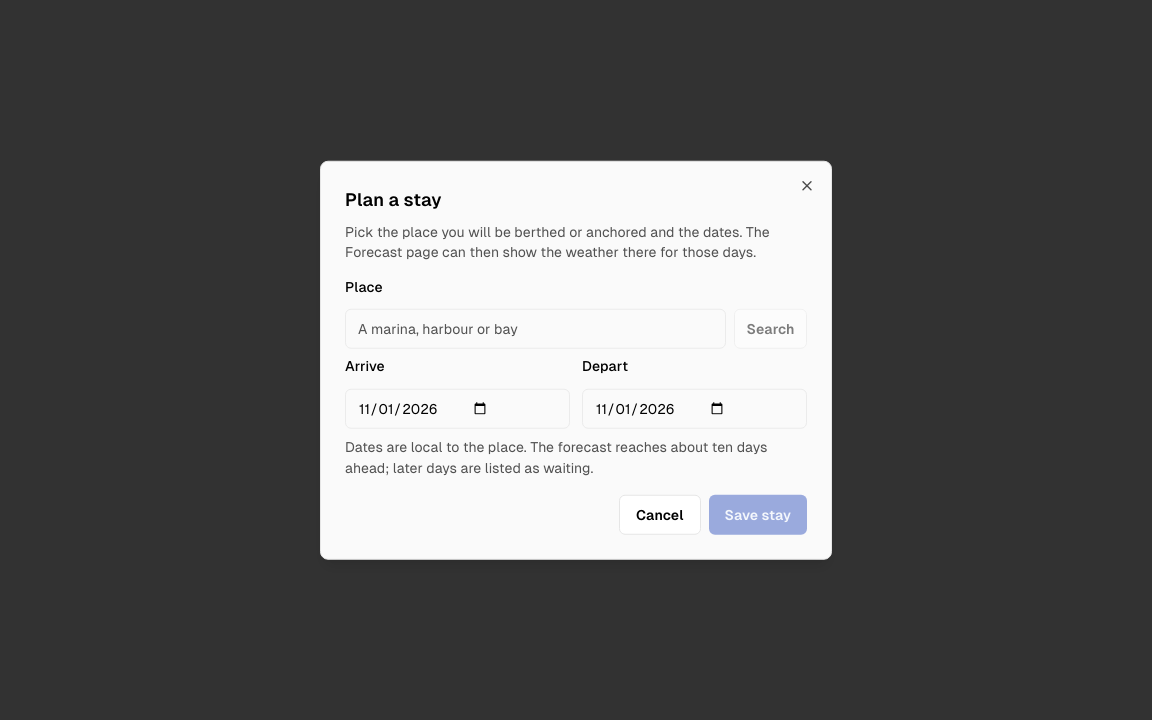
Test: ForecastStaySheet › shows a candidate with no distance or bearing without inventing one
In the field labelled "Place": (536, 329) [345,309,726,349], type "Bona"
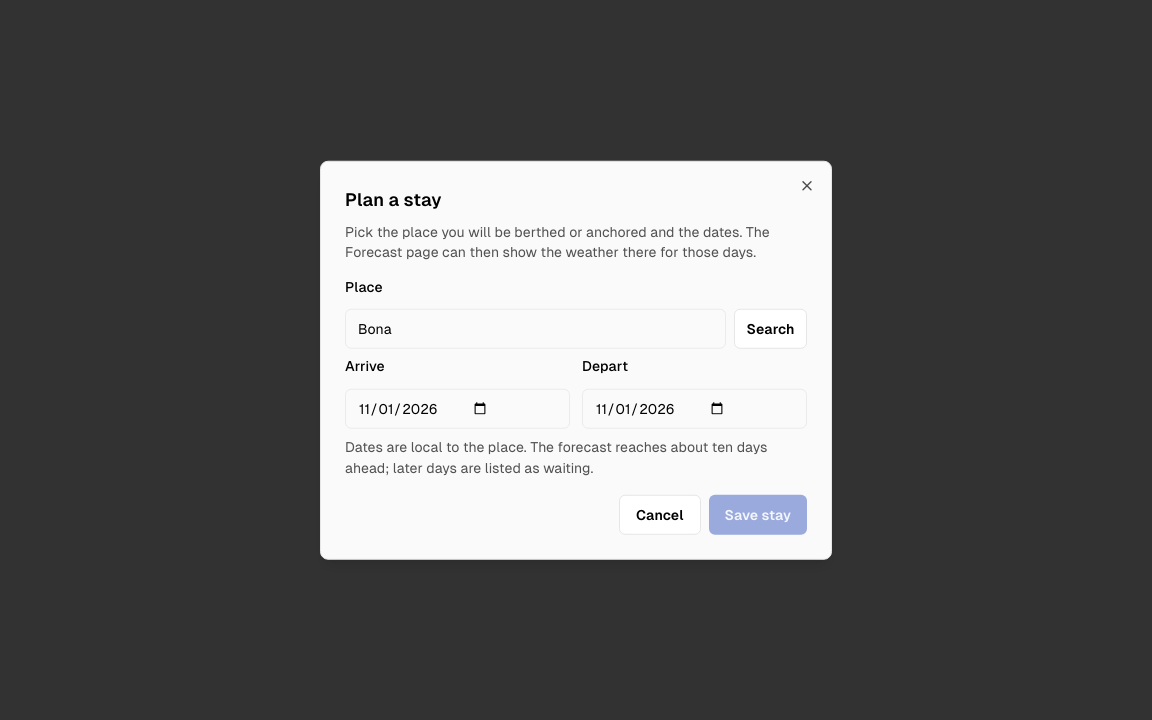
Click the button "Search": (770, 329) [734,309,807,349]
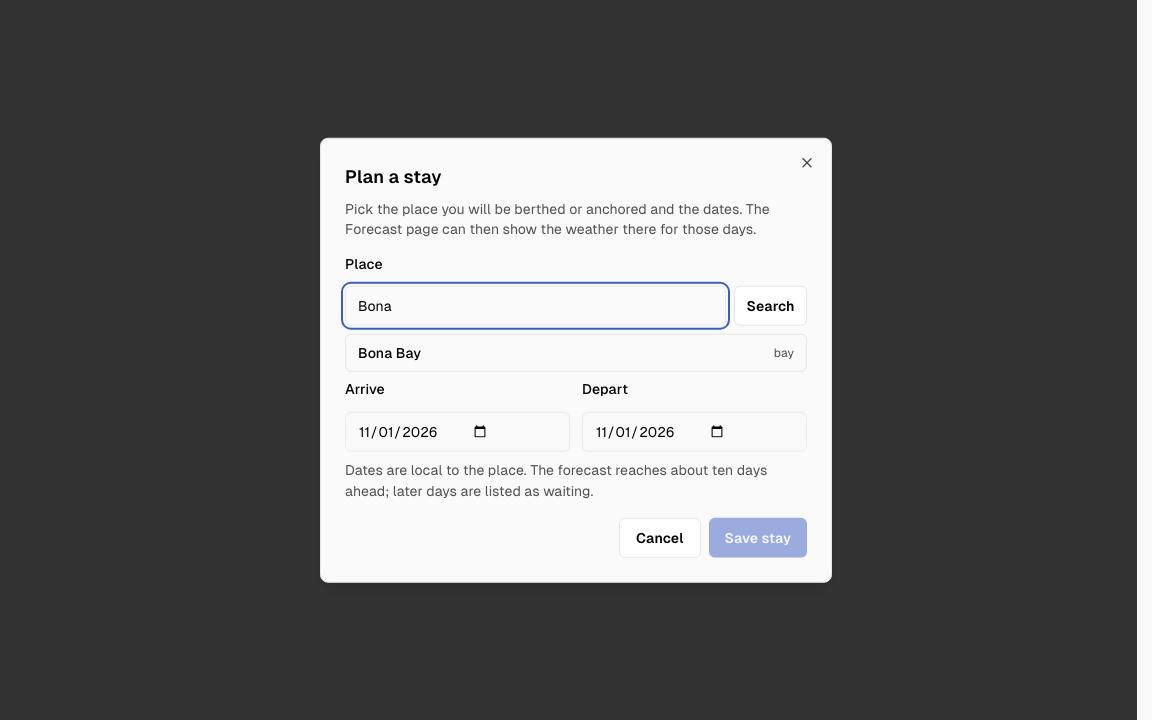
Expected: the button "Bona Bay bay" does not show "NM", [345,334,807,372]
Result: the button "Bona Bay bay" is shown at [345,334,807,372]
